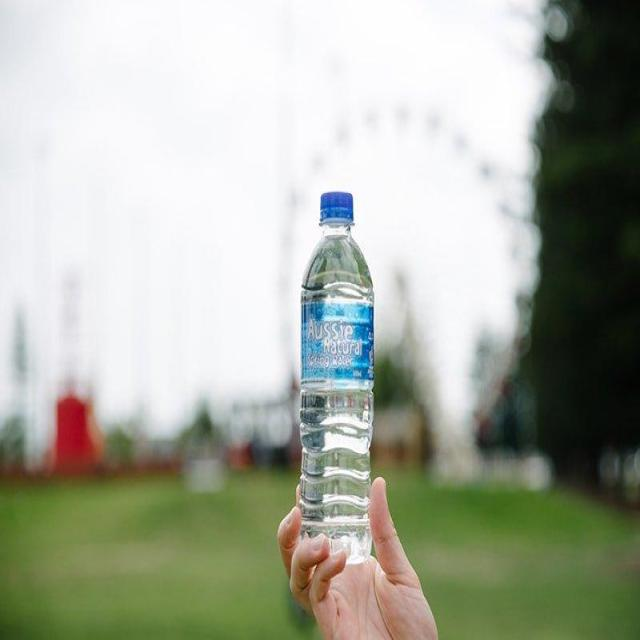plastic bottle: (301, 222, 377, 568)
plastic bottle cap: (319, 190, 354, 228)
